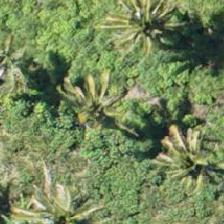coconut_tree: (46, 62, 136, 152), (139, 129, 223, 219), (85, 0, 175, 69), (0, 18, 53, 108), (10, 174, 100, 223)
